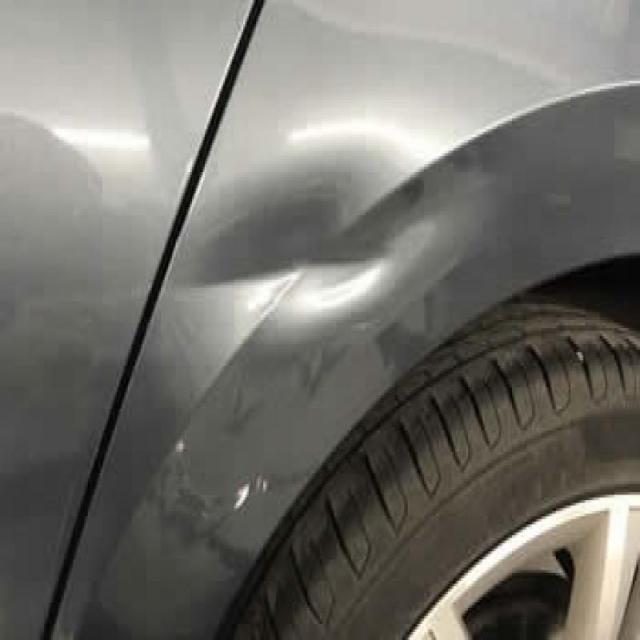dent: (200, 170, 435, 318)
